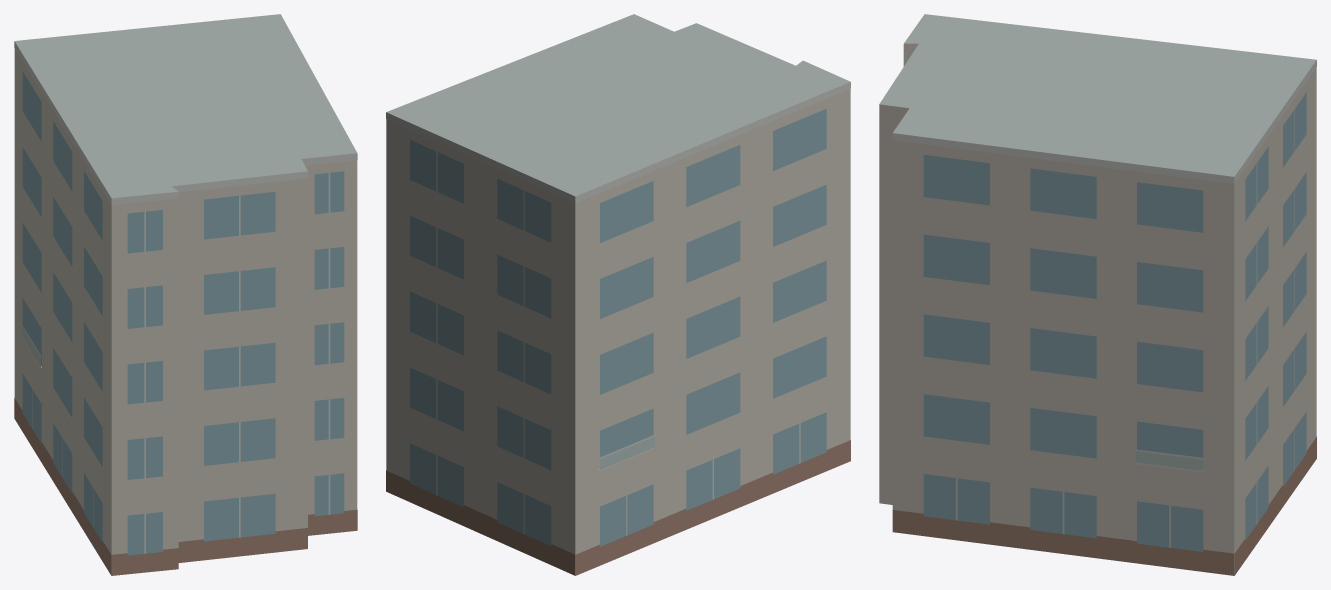
File: survey-upis-33045200.glb
3 views of the same model, side by side, from view 1: azimuth 30°, elevation 25°; view 2: azimuth 150°, elevation 25°; view 3: azimuth 270°, elevation 25° (orthographic). The views are drawn at different scales.
Visible parts, largest first — view 1: survey-upis-33045200.tmp; view 2: survey-upis-33045200.tmp; view 3: survey-upis-33045200.tmp.
Boxes of the visible parts, x1,y1,x2,y2 form: survey-upis-33045200.tmp: (14, 14, 357, 575); survey-upis-33045200.tmp: (386, 14, 850, 575); survey-upis-33045200.tmp: (879, 14, 1316, 575).
Bounding box in the file's own units: 11.78 × 13.45 × 13.38.
